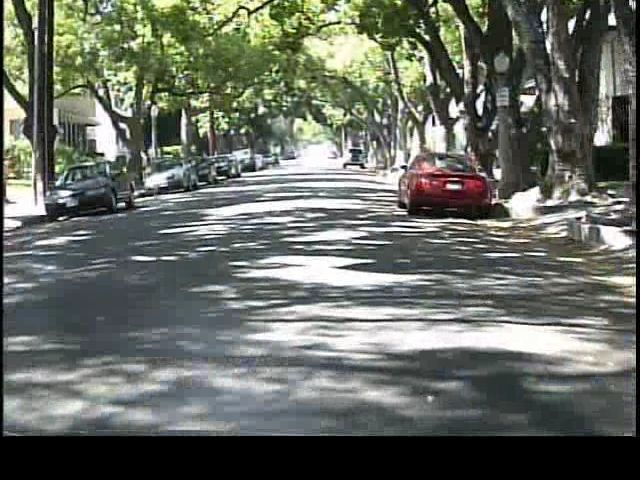person: (136, 145, 157, 188)
